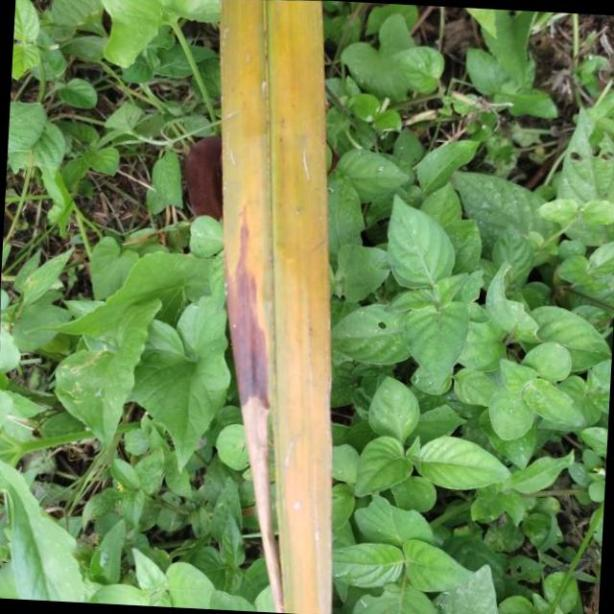Megnesium: (216, 0, 332, 614)
